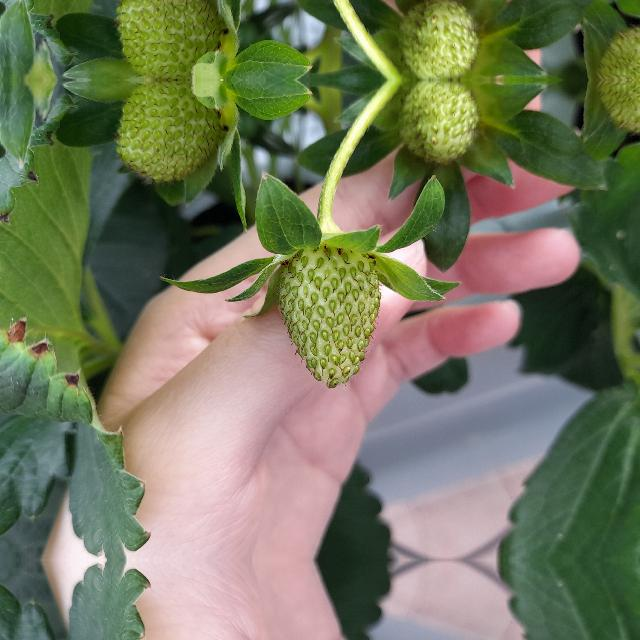Health_25: (274, 243, 382, 389), (114, 80, 228, 180), (113, 0, 228, 80), (397, 80, 478, 162), (396, 0, 477, 80)
